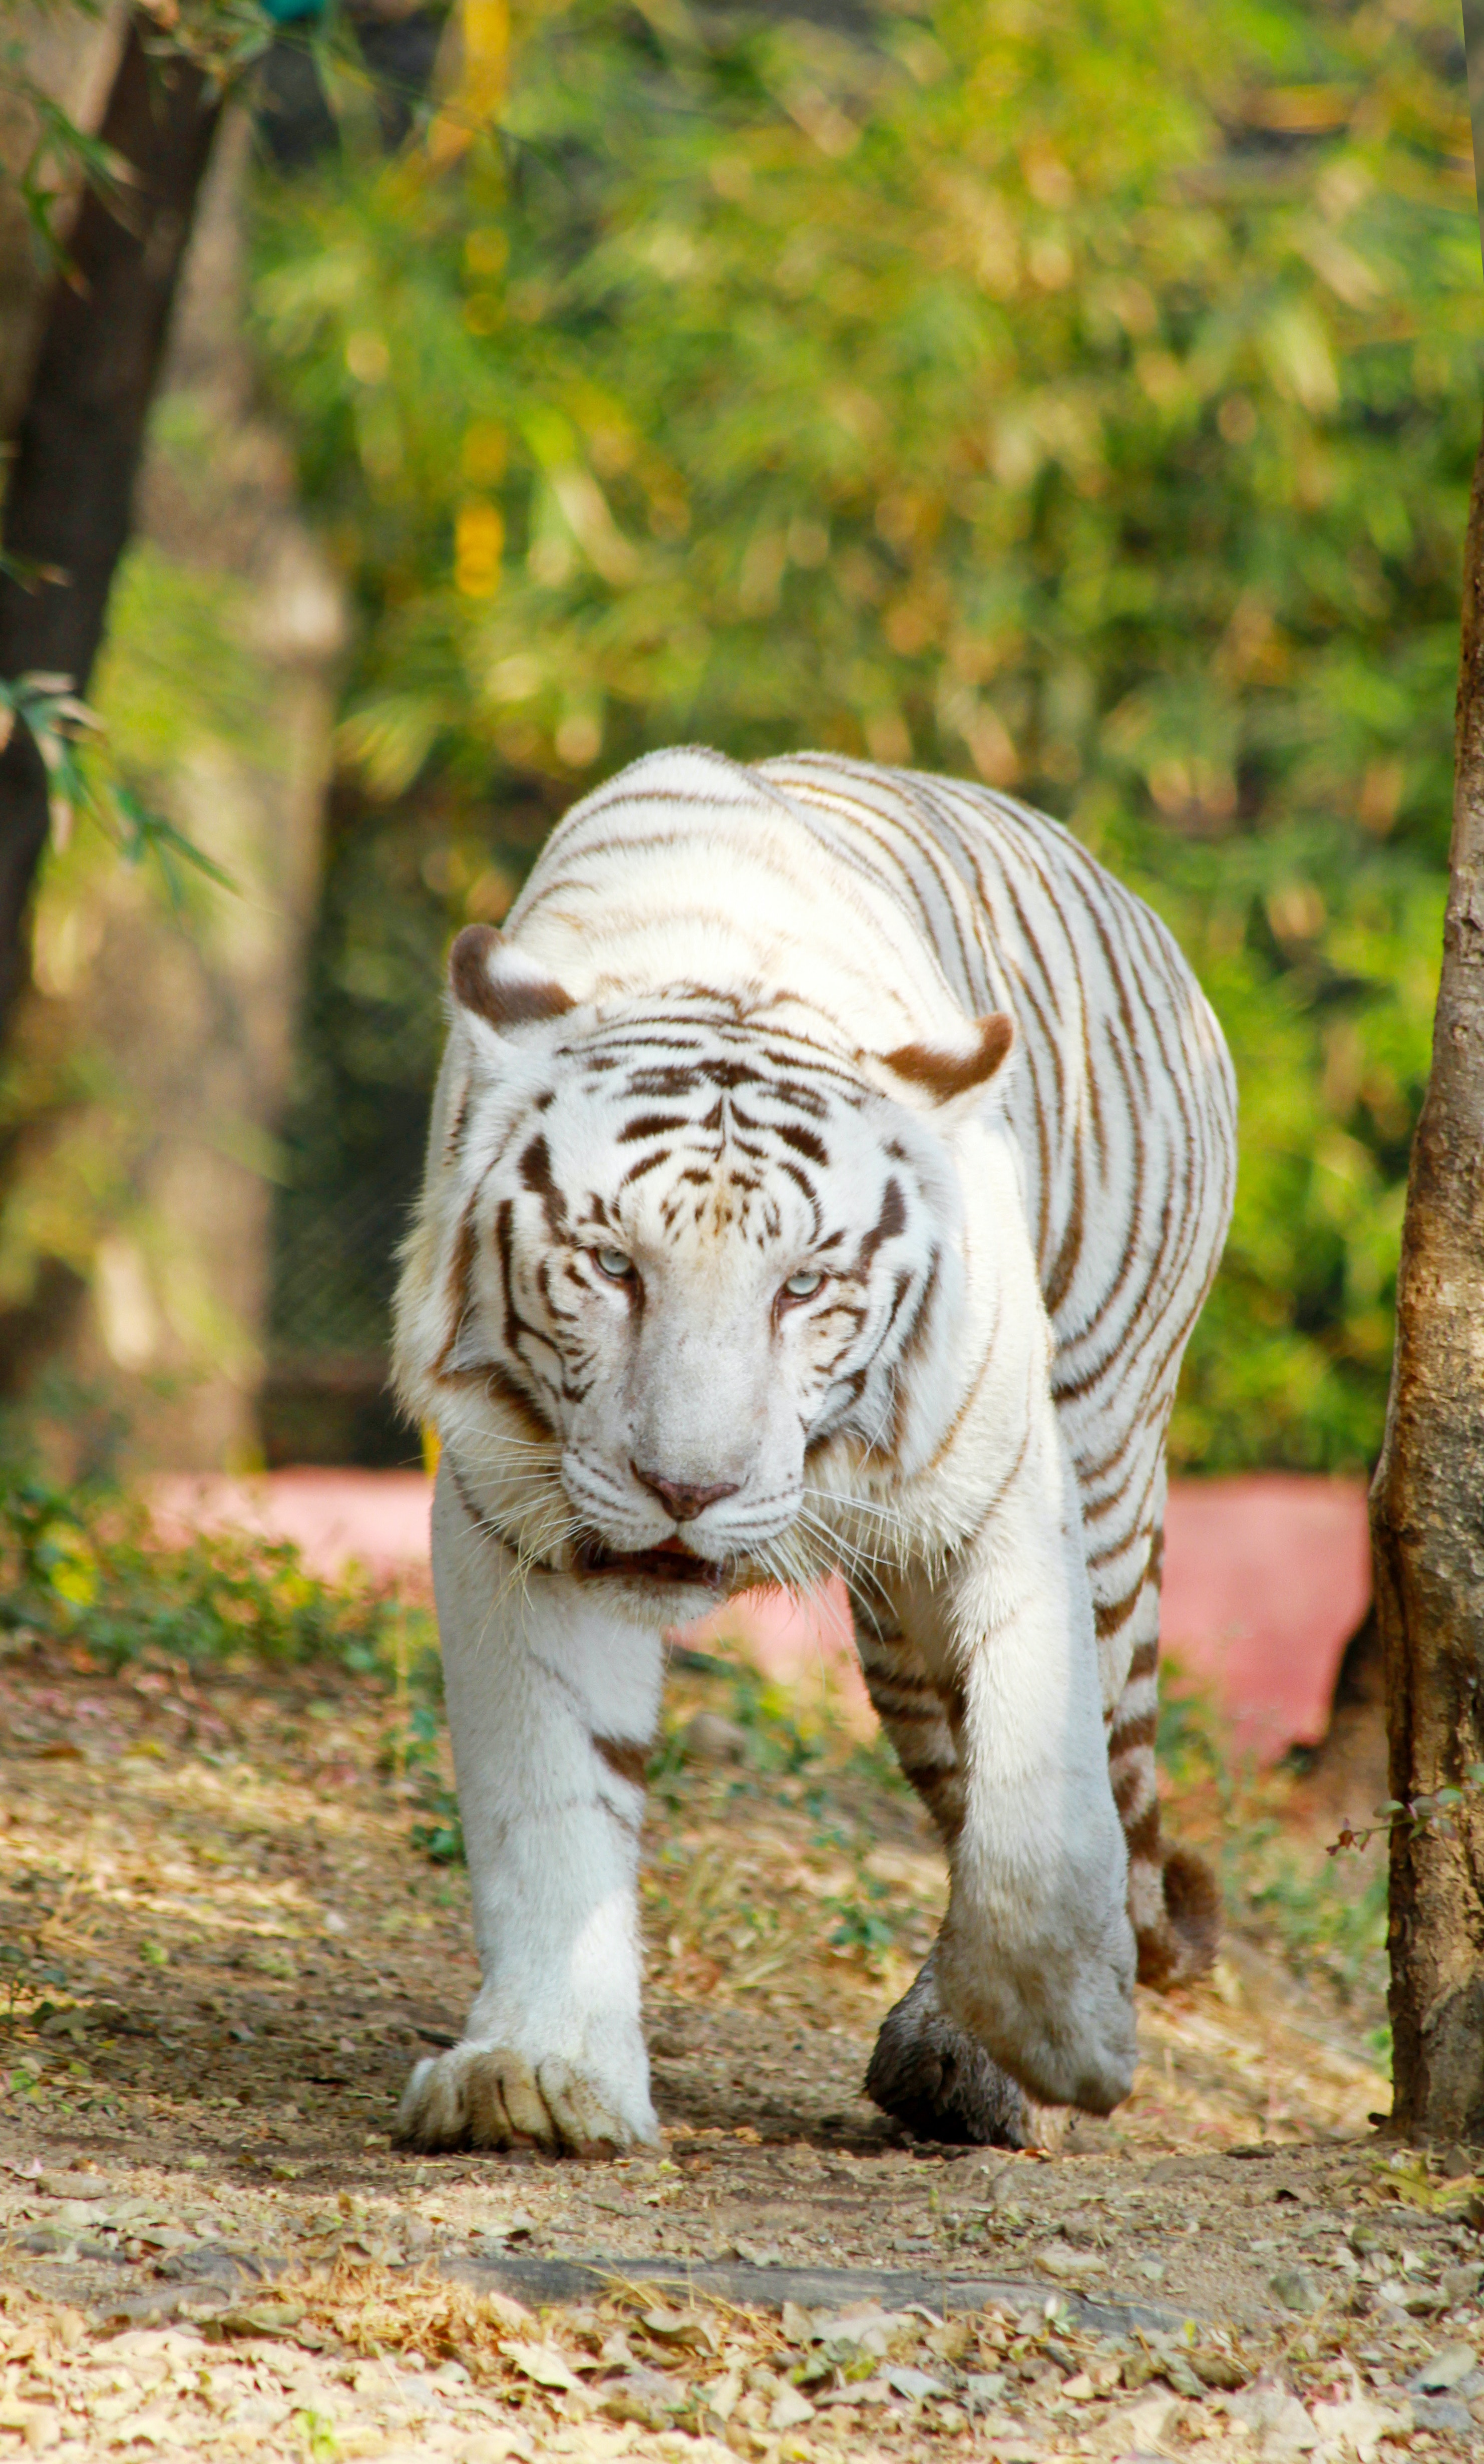tiger: (336, 686, 1269, 2165)
